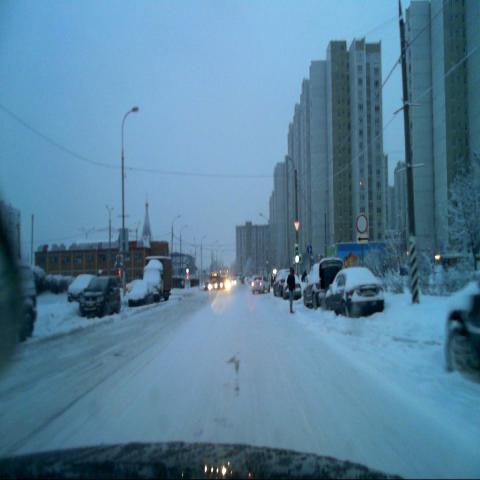3_2: (355, 209, 369, 231)
